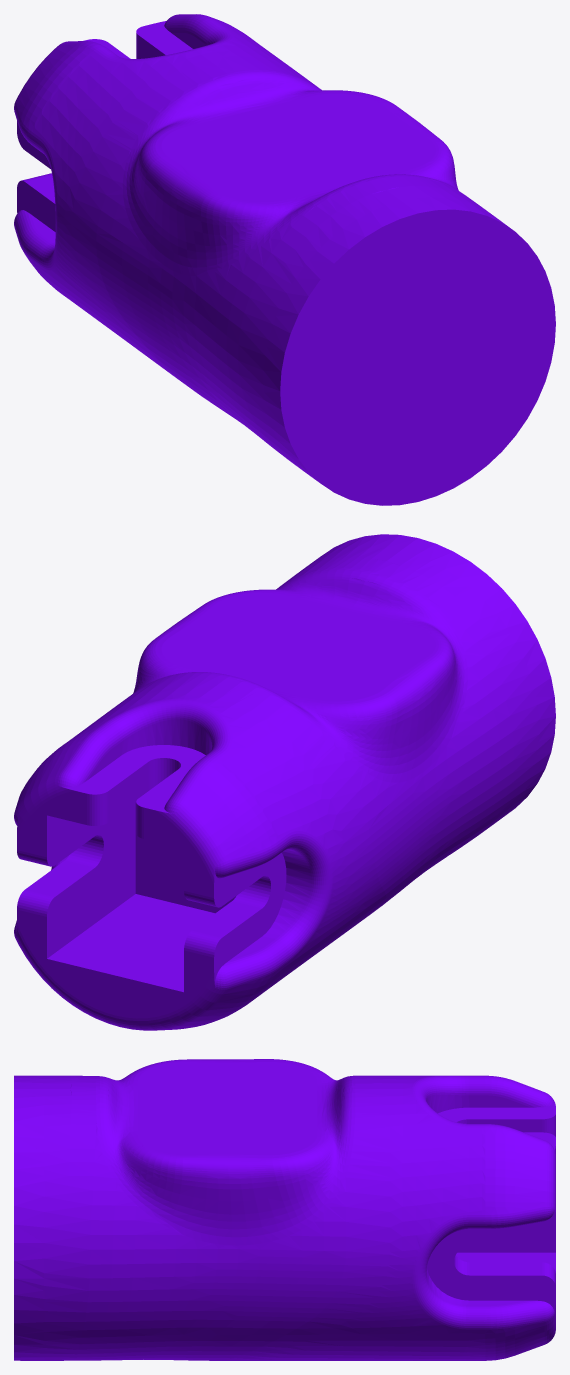
File: DoubledJACO2-base_arm_link-visual-0.dae
3 renders of one model, top to bottom at view 1: azimuth 30°, elevation 25°; view 2: azimuth 150°, elevation 25°; view 3: azimuth 270°, elevation 25°, orthographic. The views are drawn at different scales.
Visible parts, largest first — view 1: root; view 2: root; view 3: root.
Boxes of the visible parts, x1,y1,x2,y2 form: root: [14, 14, 555, 505]; root: [14, 534, 555, 1030]; root: [14, 1059, 555, 1360].
Size of the model in its own units: 0.0825 by 0.0825 by 0.1567.
